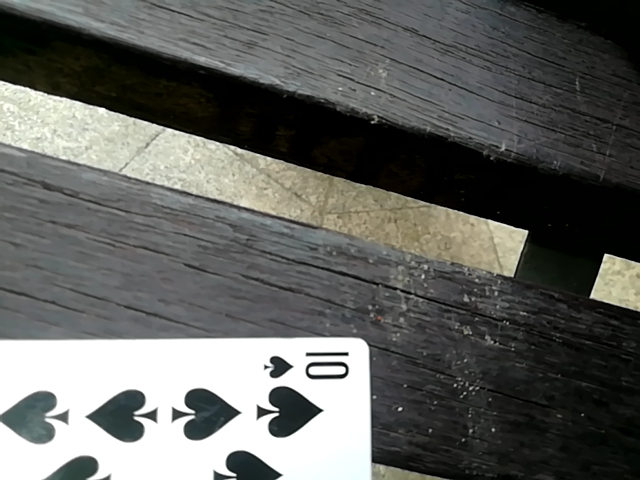ht 10: (4, 339, 387, 480)
